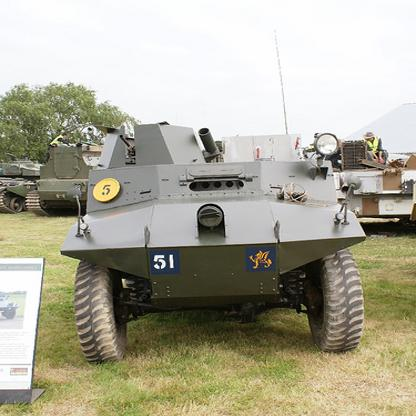Tank: (75, 124, 368, 363)
